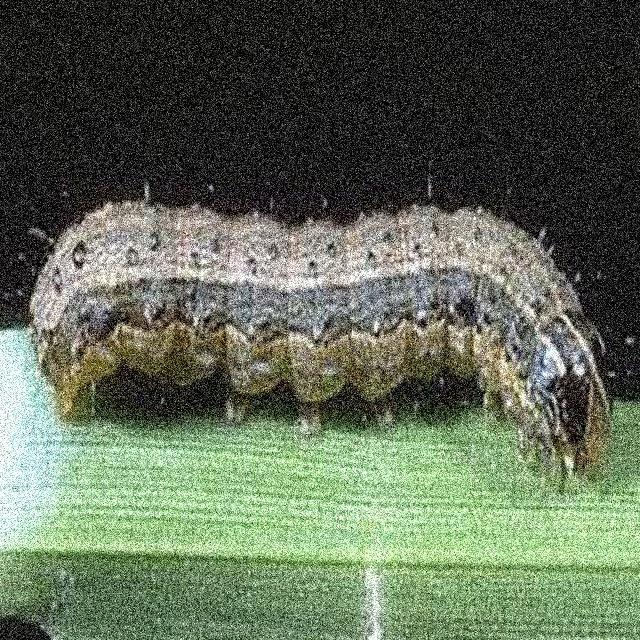Plaga: (25, 168, 640, 489)
